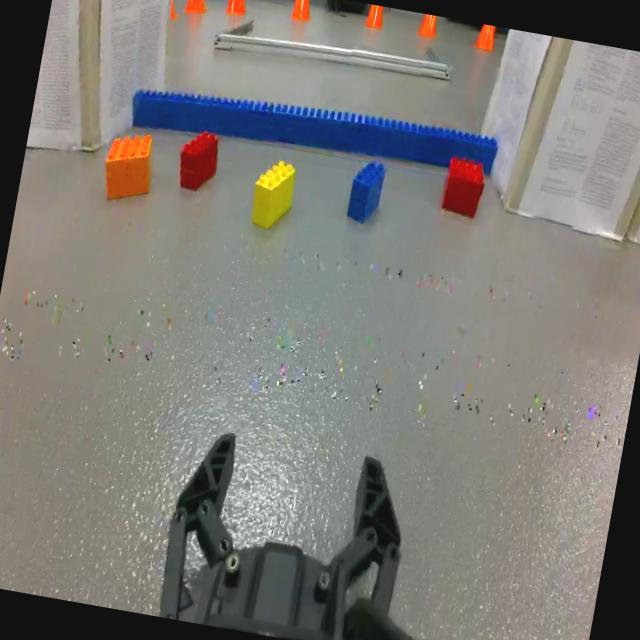block: (245, 152, 300, 237)
blue: (342, 154, 390, 228)
cone: (222, 0, 251, 23), (180, 0, 211, 17)
metal barrier: (210, 5, 458, 96)
orange: (96, 124, 160, 210)
red goal: (171, 124, 226, 200), (438, 154, 492, 222)
river: (136, 85, 500, 181)
storage cube: (474, 28, 640, 242)
